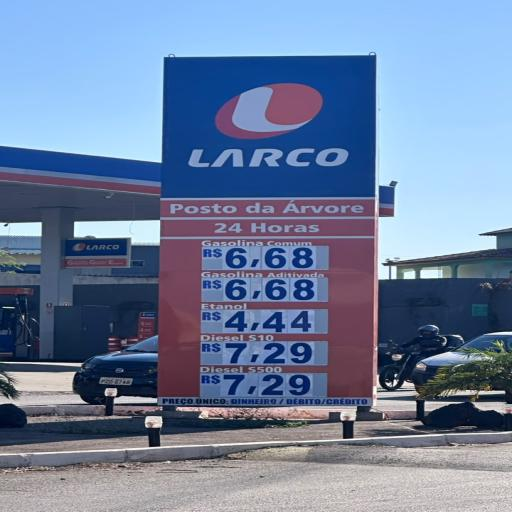ETANOL: (198, 302, 252, 310)
GASOLINA AD: (199, 270, 328, 278)
GASOLINA C: (198, 239, 327, 246)
S10: (199, 334, 279, 341)
S500: (196, 365, 294, 373)
placa: (163, 194, 374, 397)
preco: (224, 278, 318, 302), (224, 246, 317, 269), (222, 310, 314, 333), (222, 374, 314, 396), (224, 342, 314, 364)
